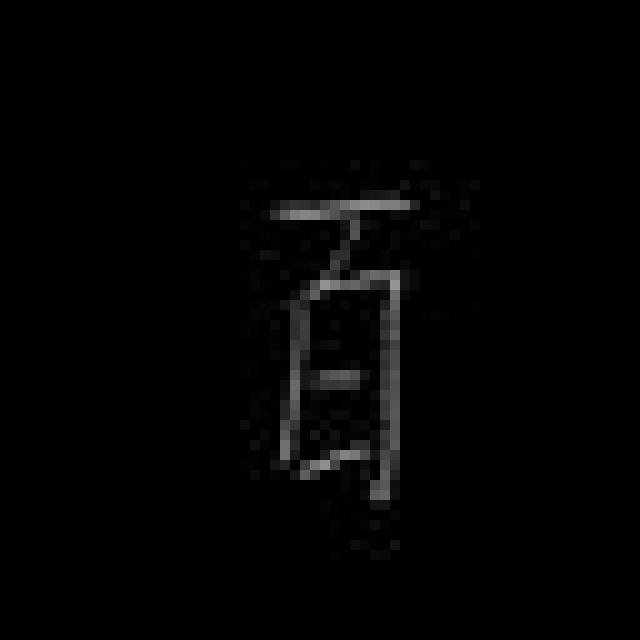100 -a hundred-: (249, 178, 418, 516)
